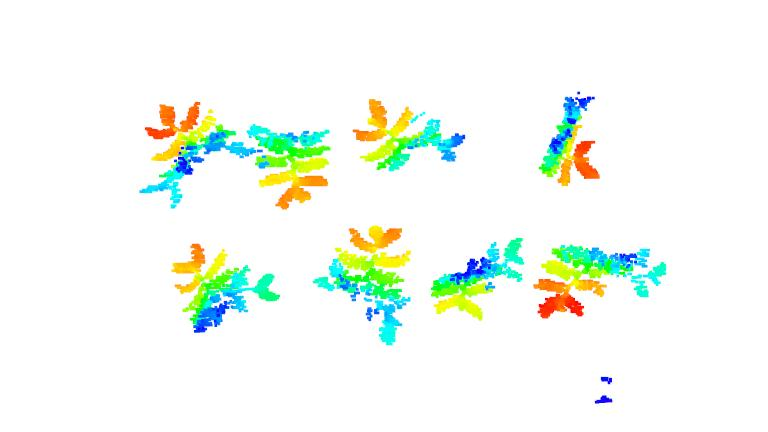chickpea: (137, 100, 254, 208), (530, 240, 672, 320), (319, 224, 411, 346), (173, 238, 284, 339), (349, 95, 468, 176), (428, 237, 530, 317), (247, 119, 334, 212), (539, 93, 604, 187)
